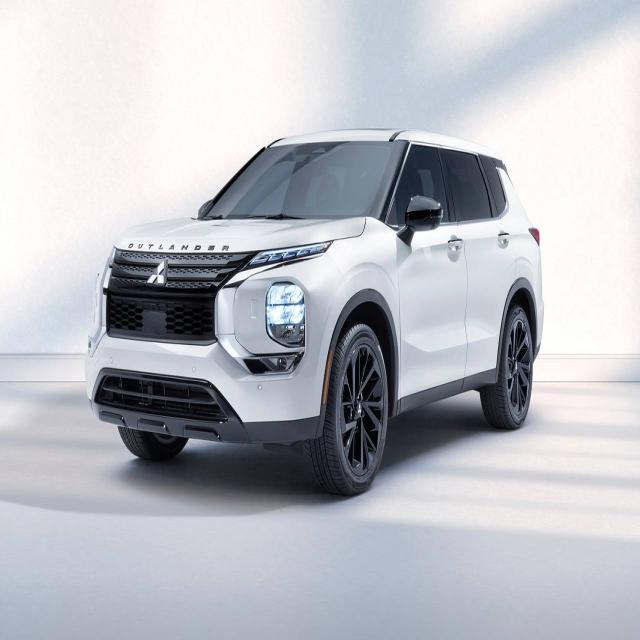light_vehicle: (85, 128, 545, 497)
